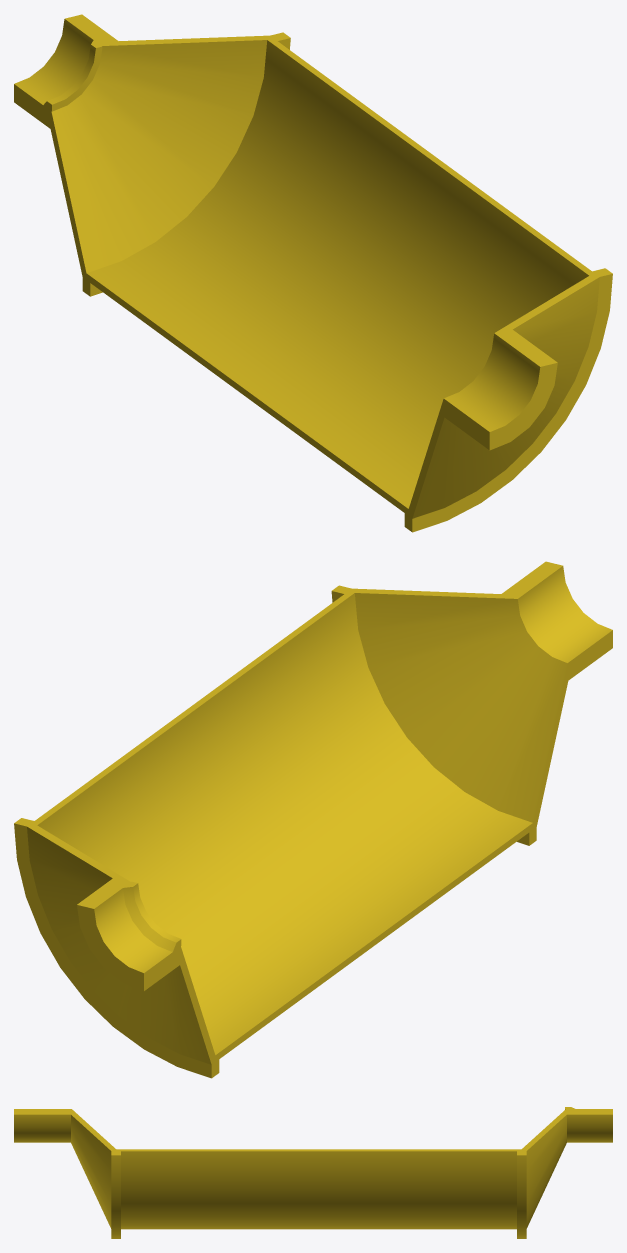
The picture shows the model from 3 angles, top to bottom: view 1: azimuth 30°, elevation 25°; view 2: azimuth 150°, elevation 25°; view 3: azimuth 270°, elevation 25°; orthographic projection. The views are drawn at different scales.
Parts seen in each view (by area): view 1: MJ03; view 2: MJ03; view 3: MJ03.
Boxes of the visible parts, <box> form: MJ03: <box>14,14,612,532</box>; MJ03: <box>14,561,612,1078</box>; MJ03: <box>14,1107,612,1238</box>.
Size of the model in its own units: 457 by 457 by 1876.
